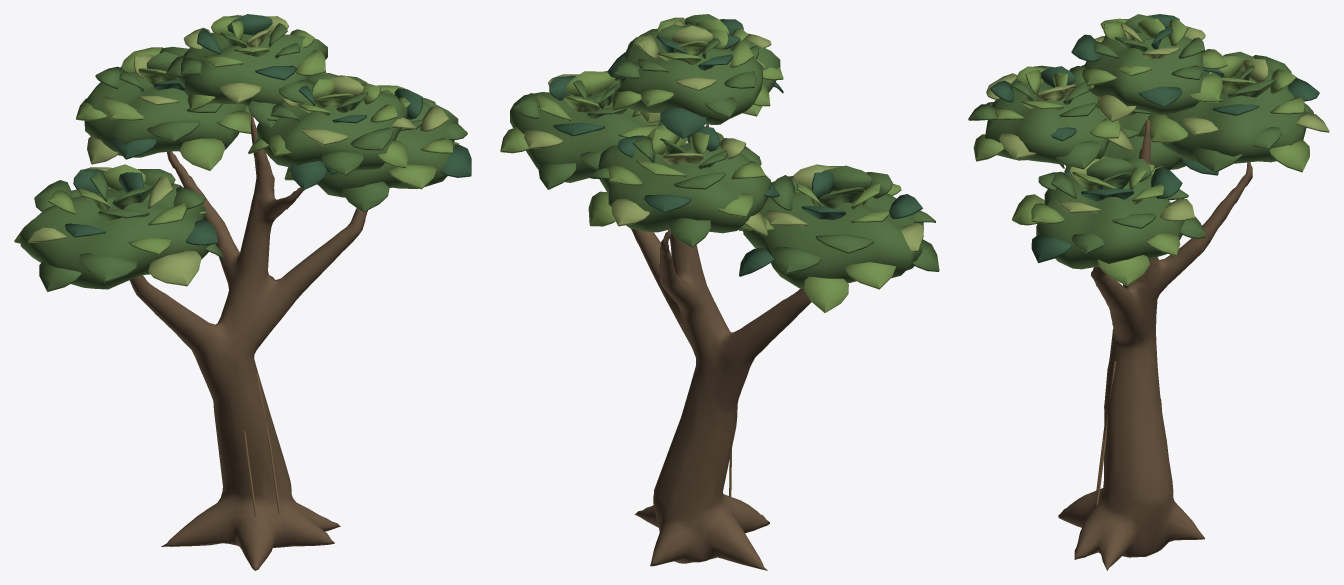
File: garden_tree_atelier.glb
3 views of the same model, side by side, from view 1: azimuth 30°, elevation 25°; view 2: azimuth 150°, elevation 25°; view 3: azimuth 270°, elevation 25° (orthographic).
Visible parts, largest first — view 1: garden_tree_atelier__TaggedPainted_Tree_Matte; view 2: garden_tree_atelier__TaggedPainted_Tree_Matte; view 3: garden_tree_atelier__TaggedPainted_Tree_Matte.
Part boxes in pixels (box(x1,y1,x2,y2)): garden_tree_atelier__TaggedPainted_Tree_Matte: box(14, 14, 471, 570); garden_tree_atelier__TaggedPainted_Tree_Matte: box(500, 14, 939, 570); garden_tree_atelier__TaggedPainted_Tree_Matte: box(968, 14, 1329, 570).
Bounding box in the file's own units: 2.88 × 3.41 × 2.14.
